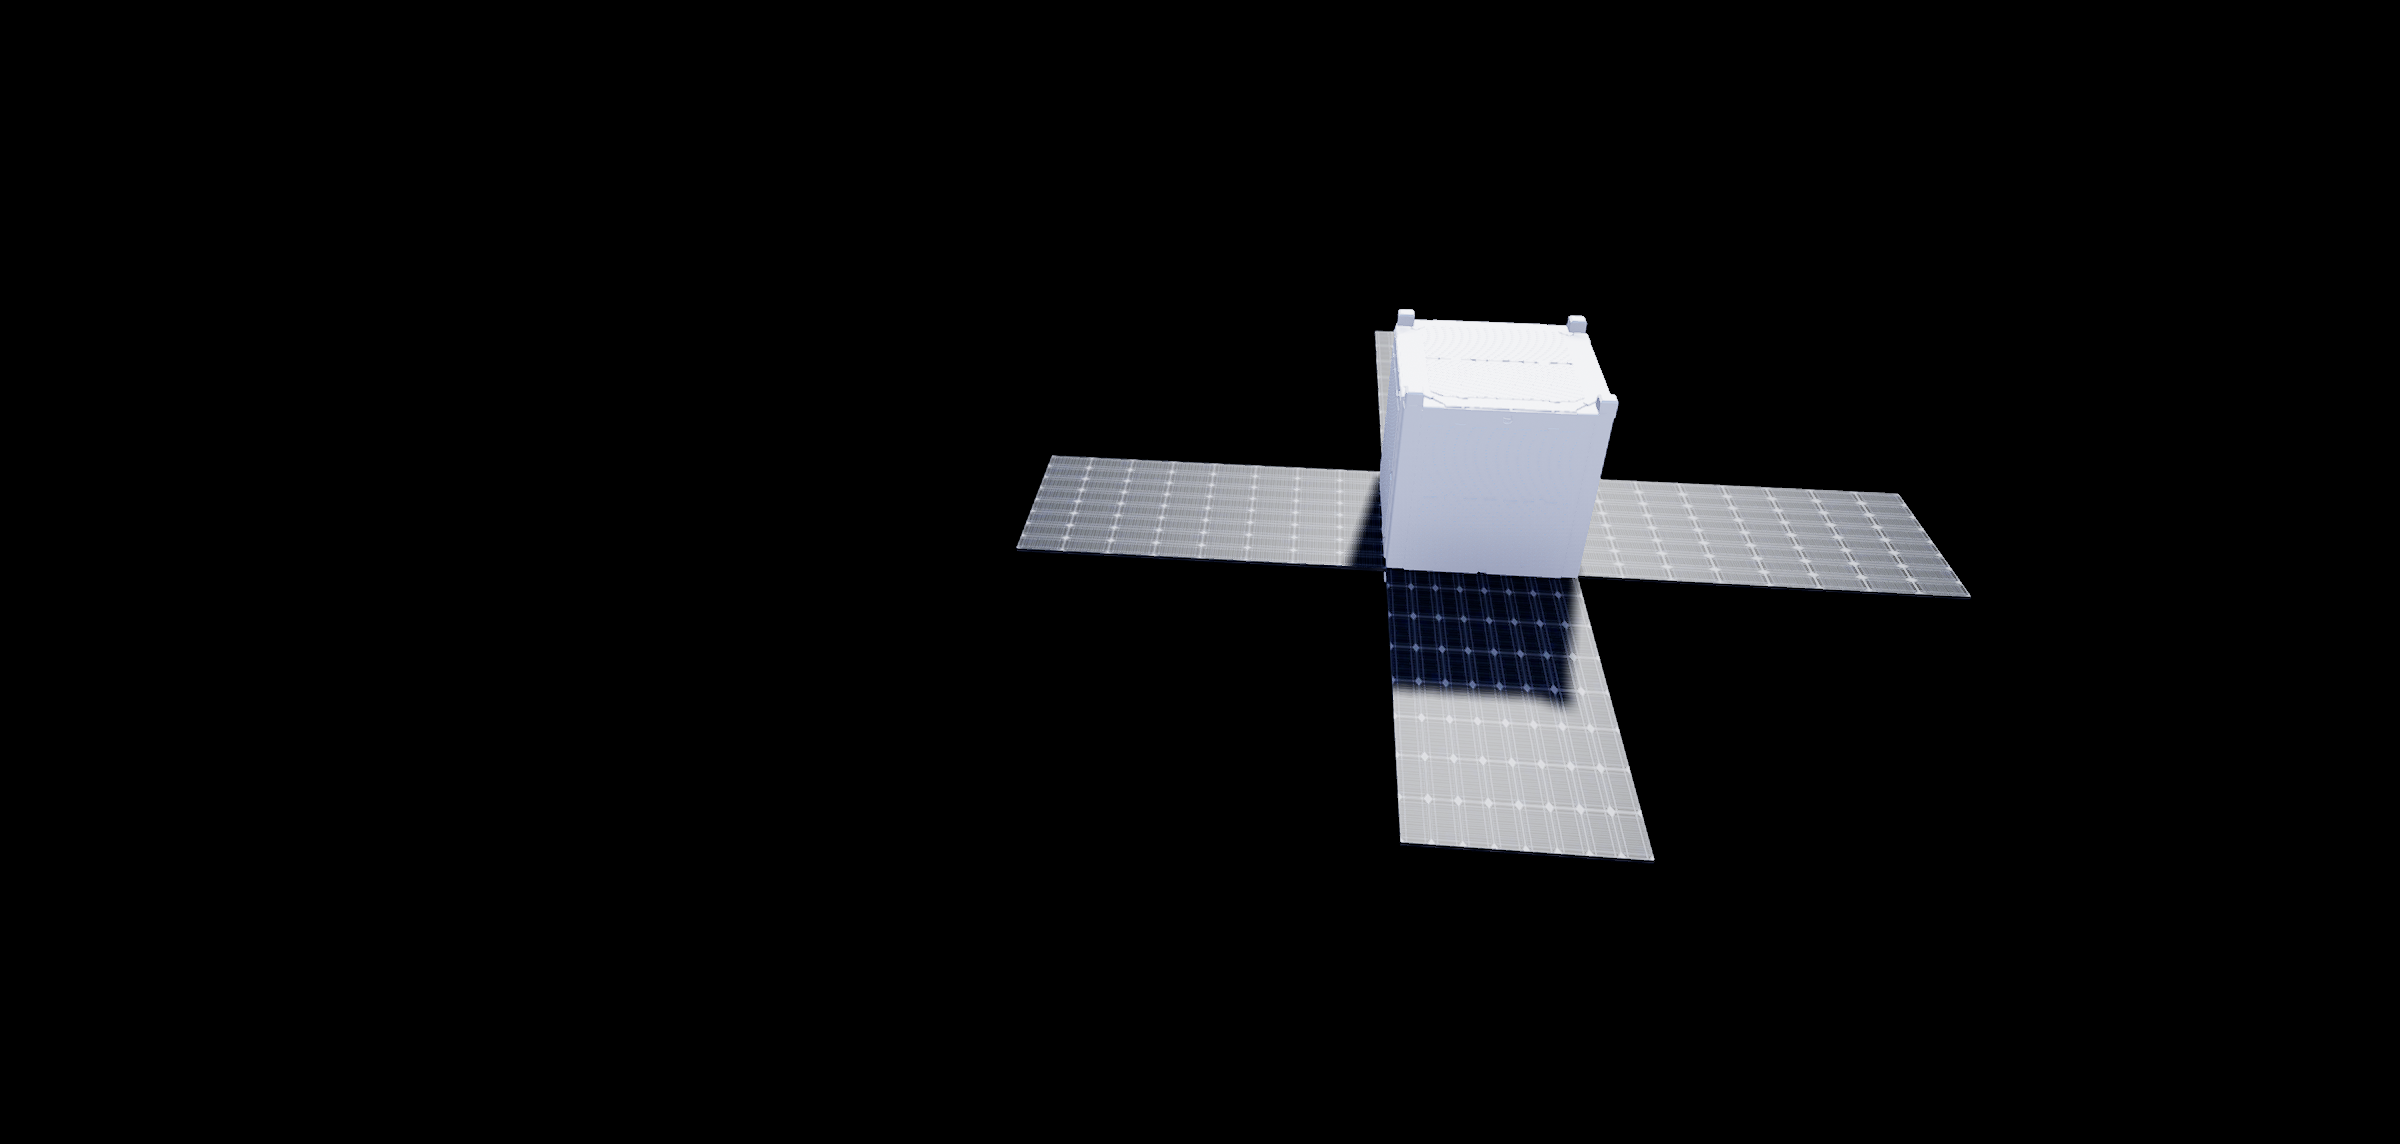satellite: (944, 231, 2001, 904)
